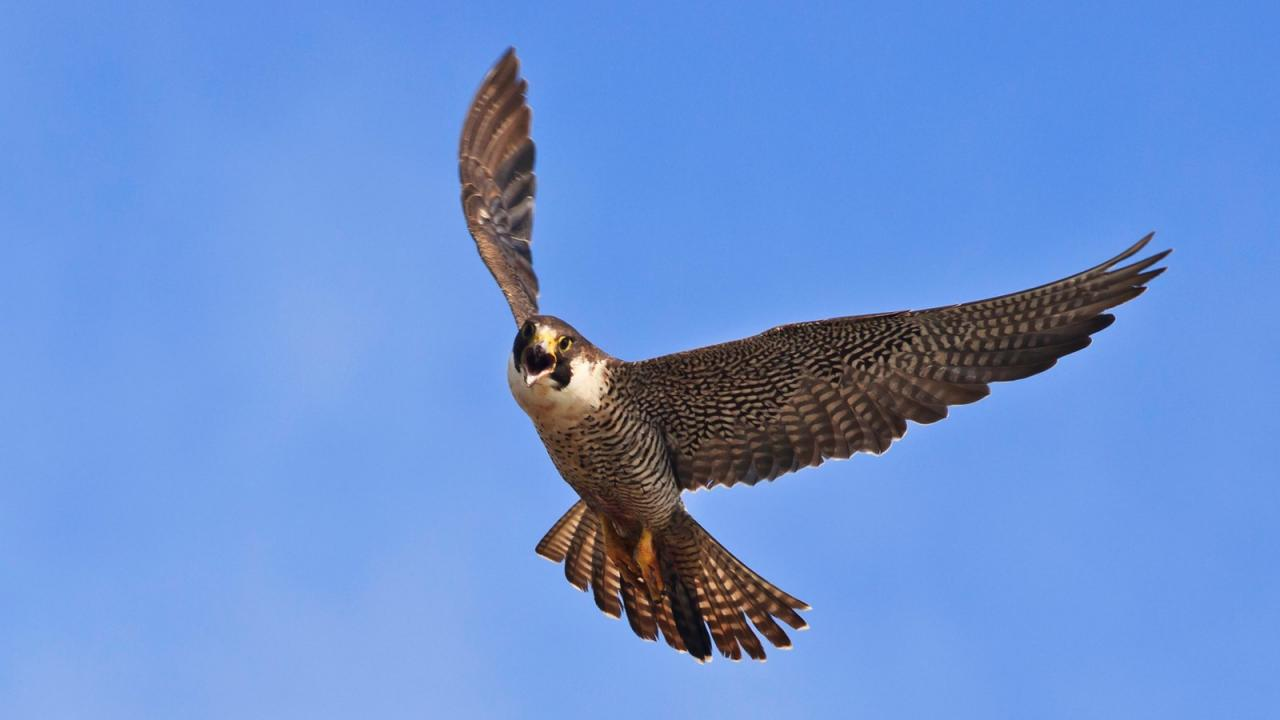Bird: (453, 37, 1184, 671)
